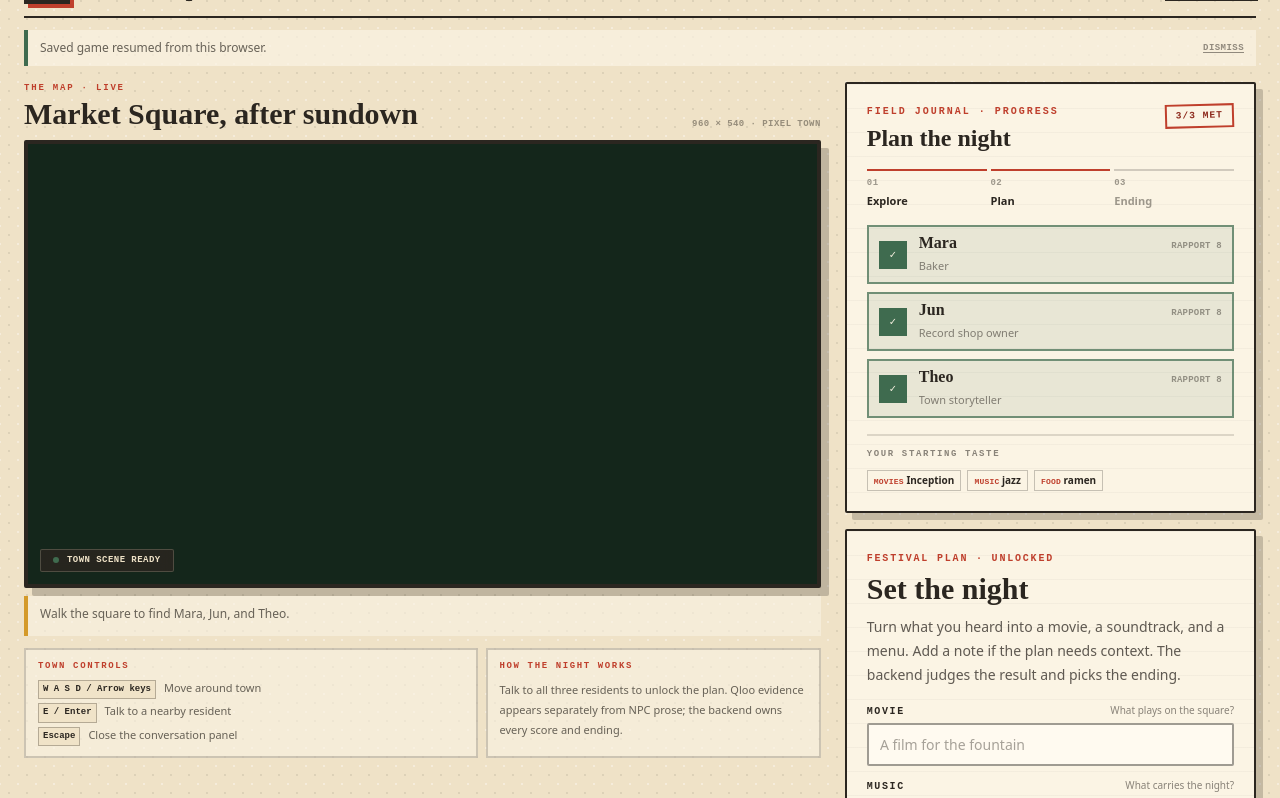
Scenario: plan evaluation and endings › retries a 503 plan evaluation without re-entering the plan
In the field labelled "Movie What plays on the square?": point(1050, 745) [867,723,1234,766], type "Inception"
(page scrolled)
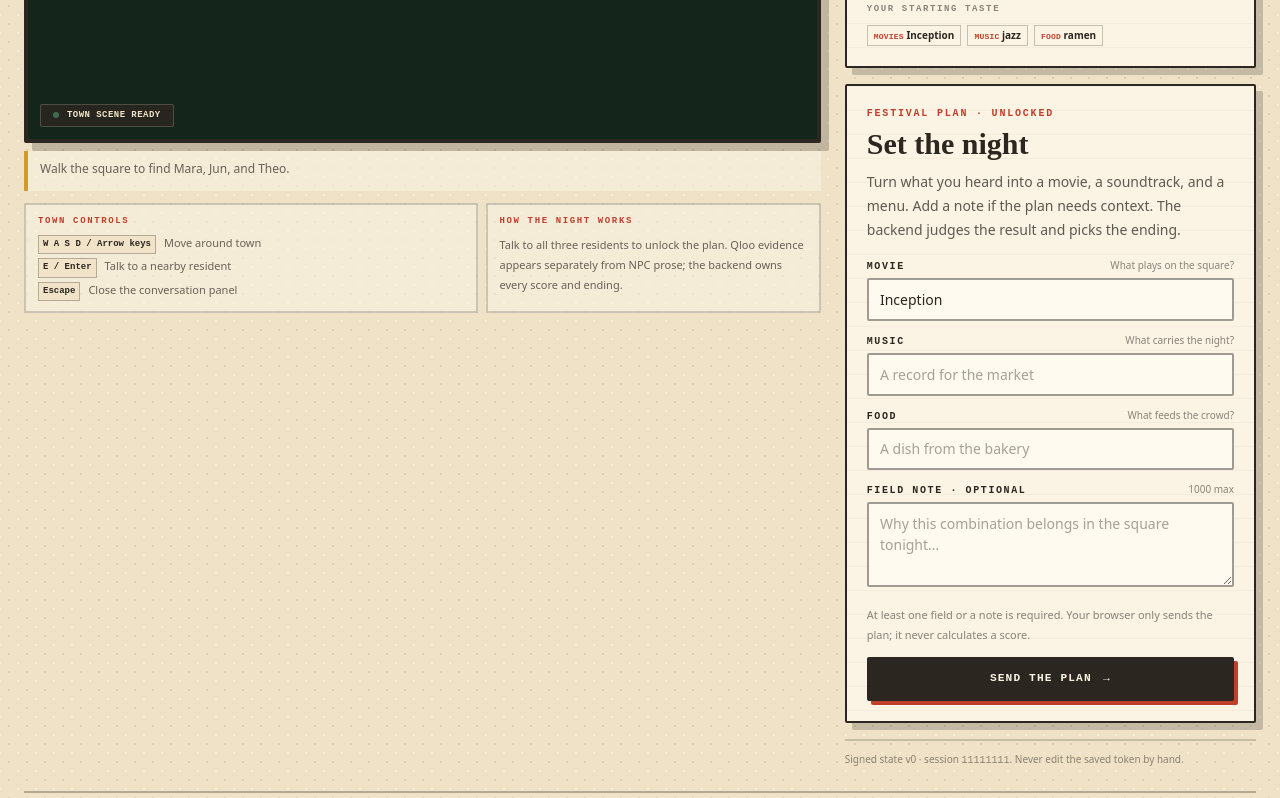
Click the button "Send the plan →": point(1050, 679) [867,657,1234,701]
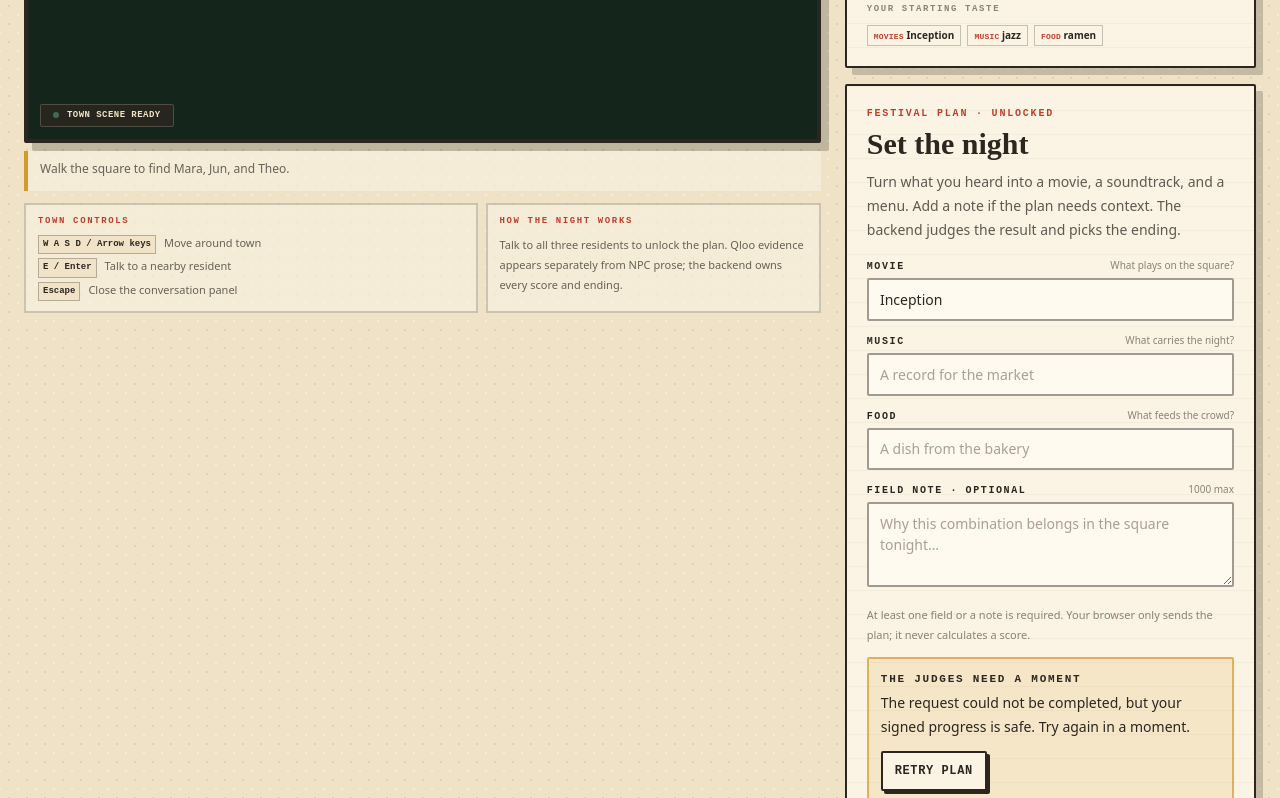
Now the text "The judges need a moment" is shown, box [881,673,1082,685]
Click the button "Retry plan": point(934, 771) [881,751,987,791]
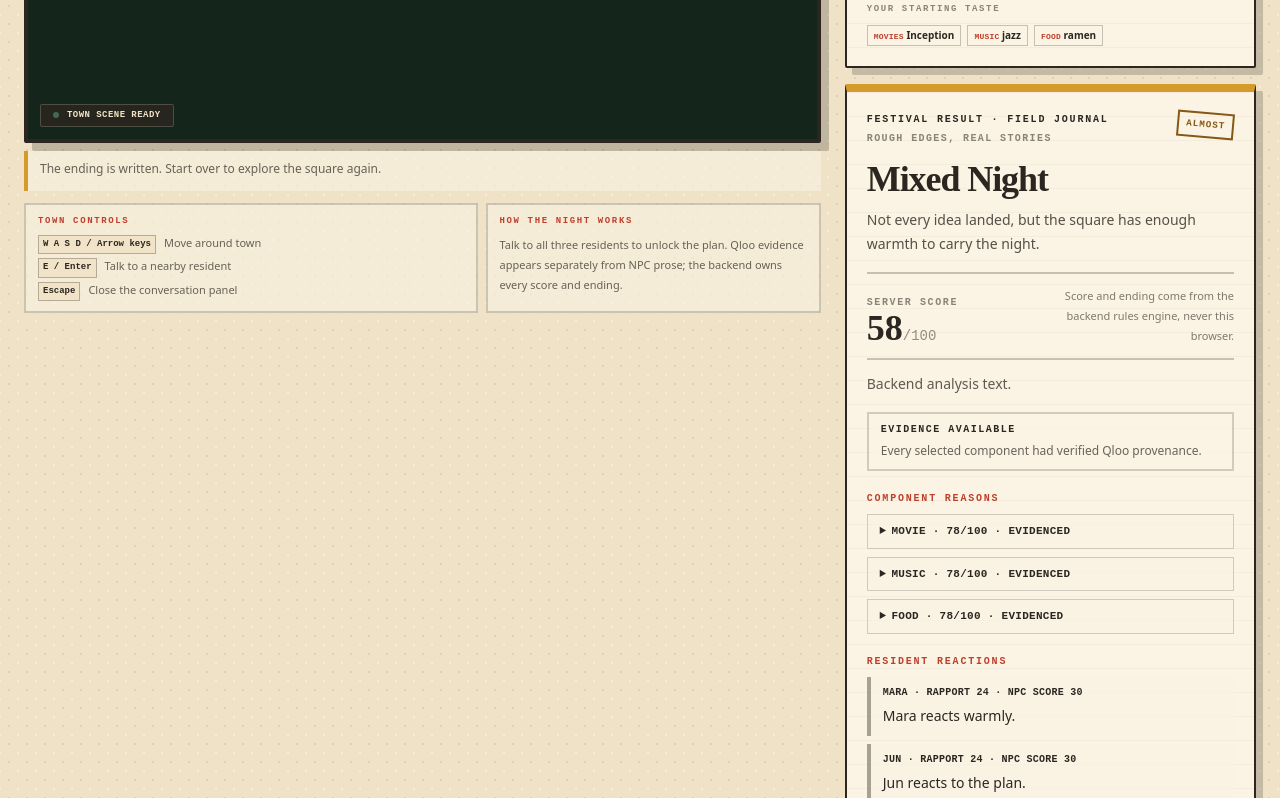
Now the heading "Mixed Night" is shown, box [867,159,1048,199]
